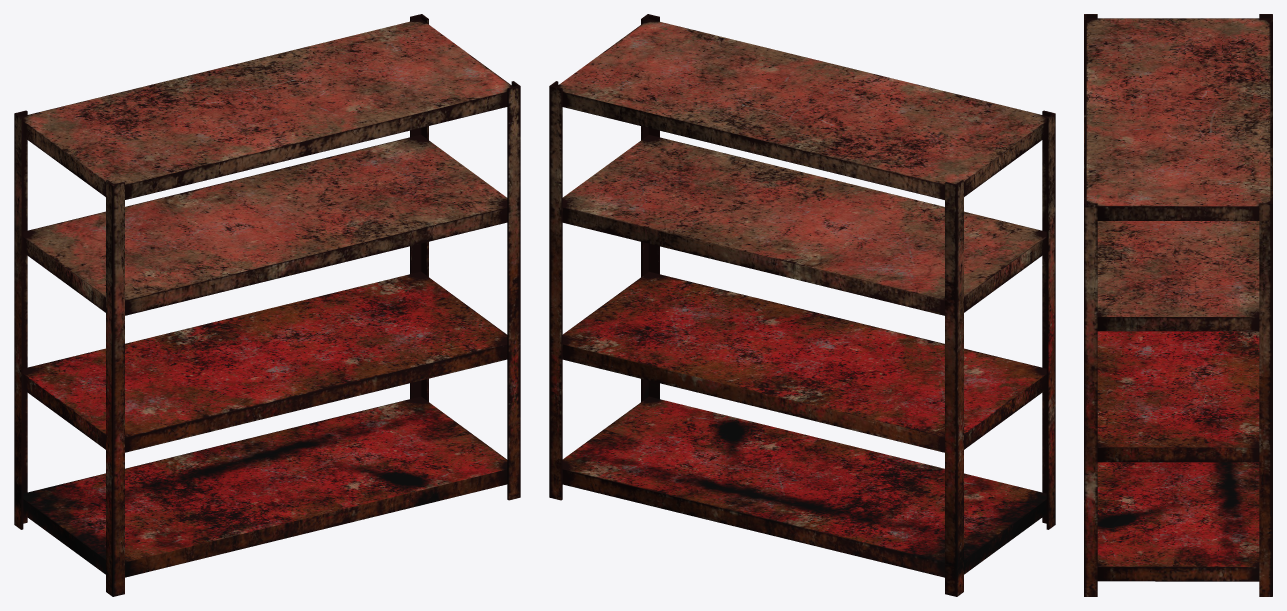
3 views of the same model, side by side, from view 1: azimuth 30°, elevation 25°; view 2: azimuth 150°, elevation 25°; view 3: azimuth 270°, elevation 25° (orthographic). The views are drawn at different scales.
Parts seen in each view (by area): view 1: SHELF_GREEN; view 2: SHELF_GREEN; view 3: SHELF_GREEN.
Boxes of the visible parts, left/top/right/bottom form: SHELF_GREEN: left=14, top=14, right=520, bottom=596; SHELF_GREEN: left=549, top=14, right=1055, bottom=596; SHELF_GREEN: left=1084, top=14, right=1272, bottom=596.
Size of the model in its own units: 747 by 720 by 313.
Materials: 1 (1 with a texture image).
